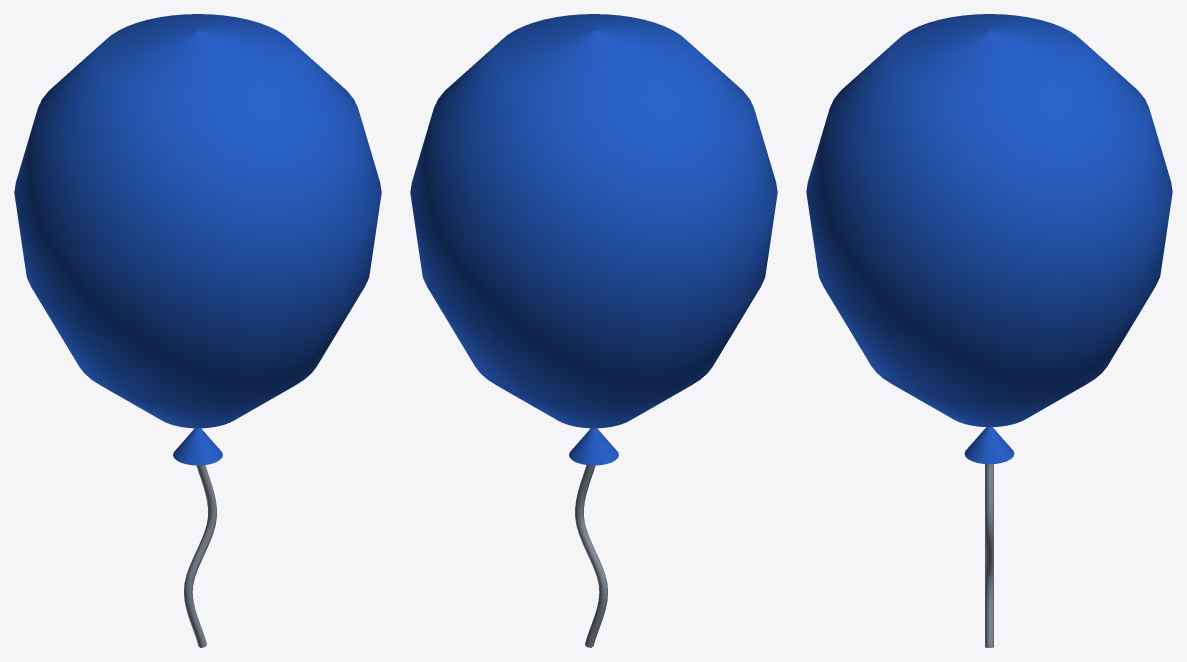
The model's file is balloon.glb.
The picture shows the model from 3 angles, left to right: view 1: azimuth 30°, elevation 25°; view 2: azimuth 150°, elevation 25°; view 3: azimuth 270°, elevation 25°; orthographic projection.
Parts seen in each view (by area): view 1: balloon_body, balloon_string, balloon_knot; view 2: balloon_body, balloon_string, balloon_knot; view 3: balloon_body, balloon_string, balloon_knot.
Part boxes in pixels (left/top/right/bottom): balloon_body: left=14, top=14, right=381, bottom=428; balloon_string: left=184, top=465, right=216, bottom=647; balloon_knot: left=173, top=428, right=222, bottom=465; balloon_body: left=410, top=14, right=777, bottom=428; balloon_string: left=575, top=465, right=607, bottom=647; balloon_knot: left=569, top=428, right=618, bottom=465; balloon_body: left=806, top=14, right=1172, bottom=427; balloon_string: left=985, top=464, right=993, bottom=647; balloon_knot: left=964, top=427, right=1014, bottom=464.
Bounding box in the file's own units: 0.66 × 1.22 × 0.66.
